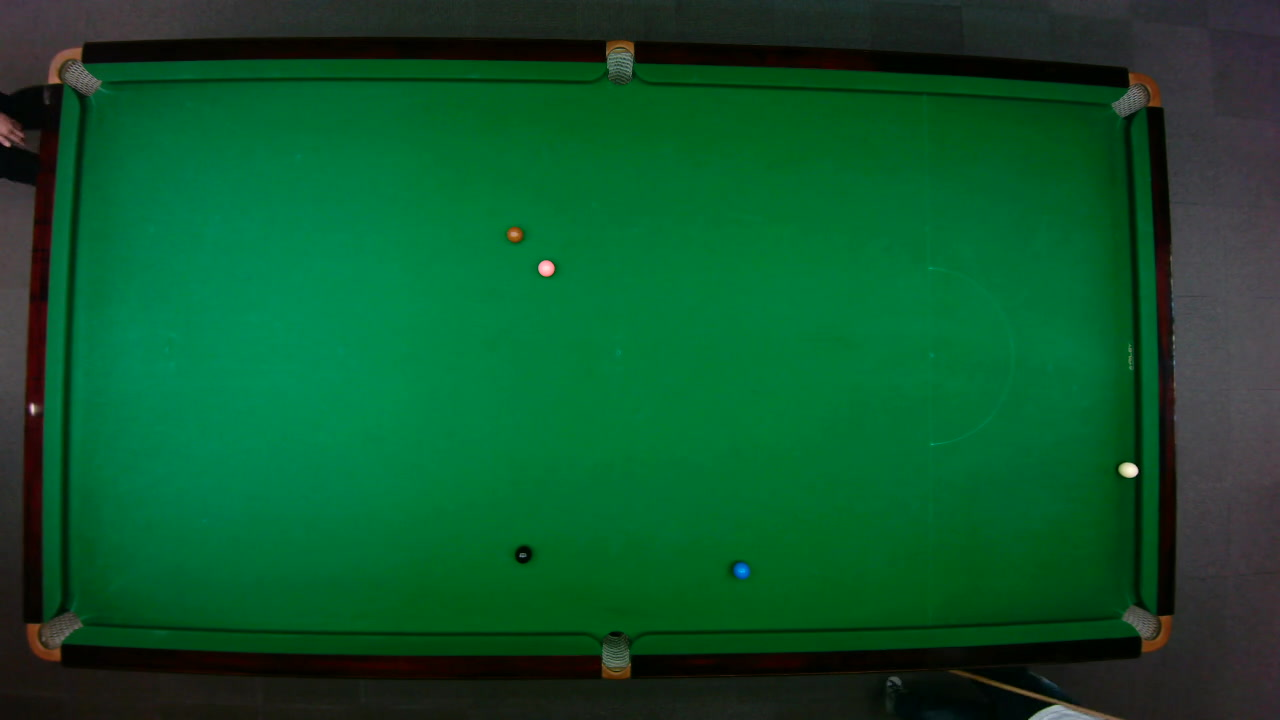bag: (25, 610, 84, 662), (45, 46, 102, 96), (1119, 603, 1172, 652), (1108, 71, 1161, 118), (600, 629, 629, 679), (605, 38, 633, 85)
black: (513, 544, 532, 563)
blue: (731, 560, 750, 579)
brown: (505, 225, 523, 242)
pink: (536, 258, 555, 277)
white: (1116, 460, 1139, 478)
zone: (927, 265, 1014, 445)
